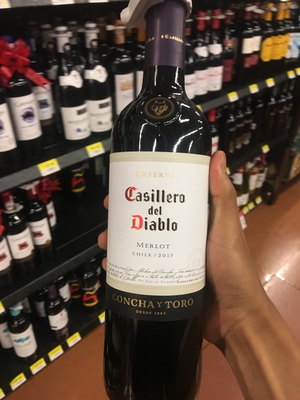casillero del diablo merlot: (96, 15, 212, 400)
